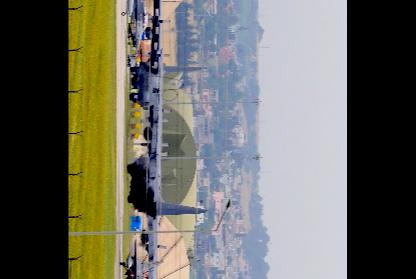Be200: (127, 47, 209, 278), (130, 0, 208, 156)
F14: (120, 226, 165, 278), (121, 0, 163, 52)
